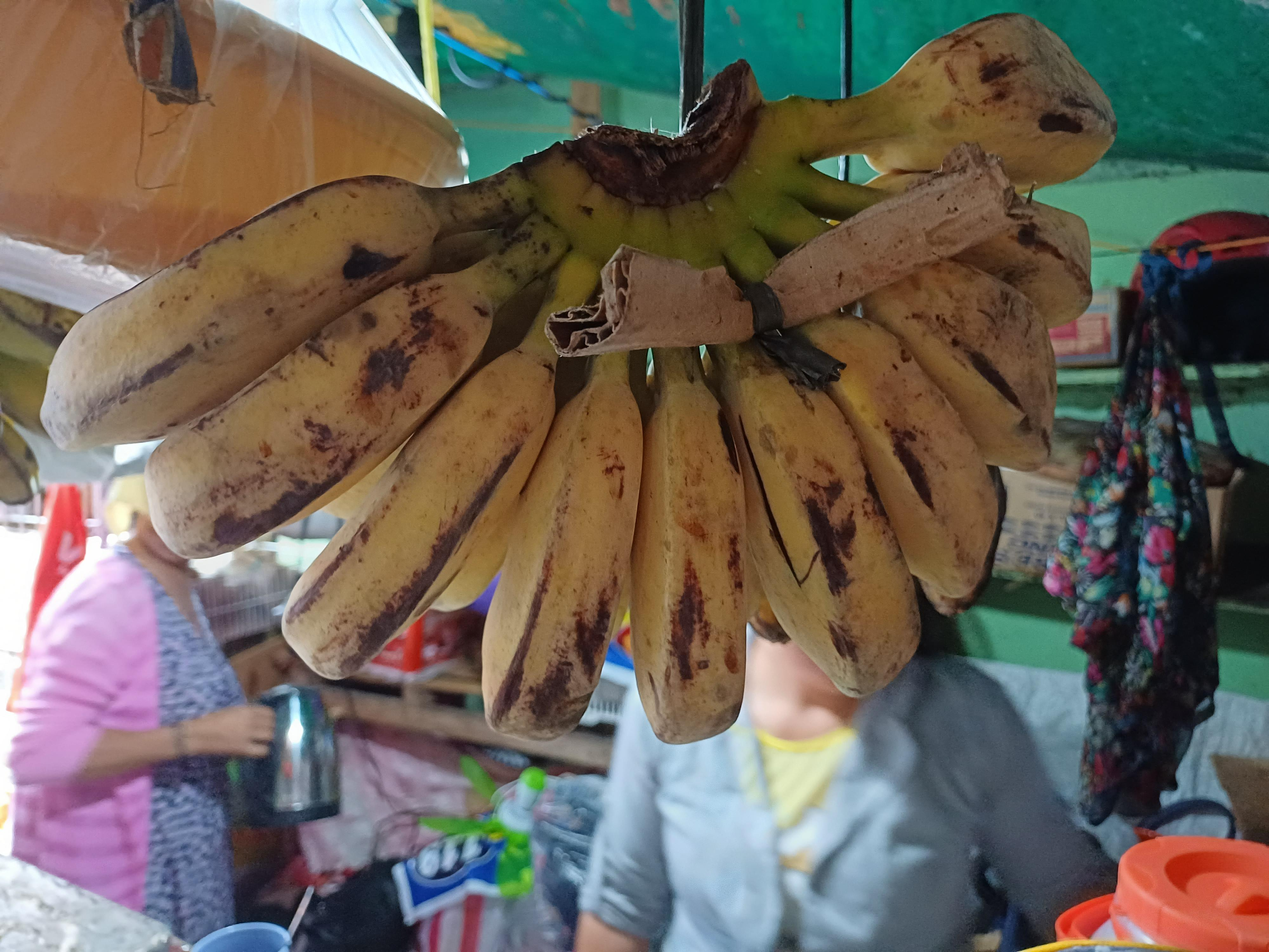ripe: (44, 15, 1117, 744)
